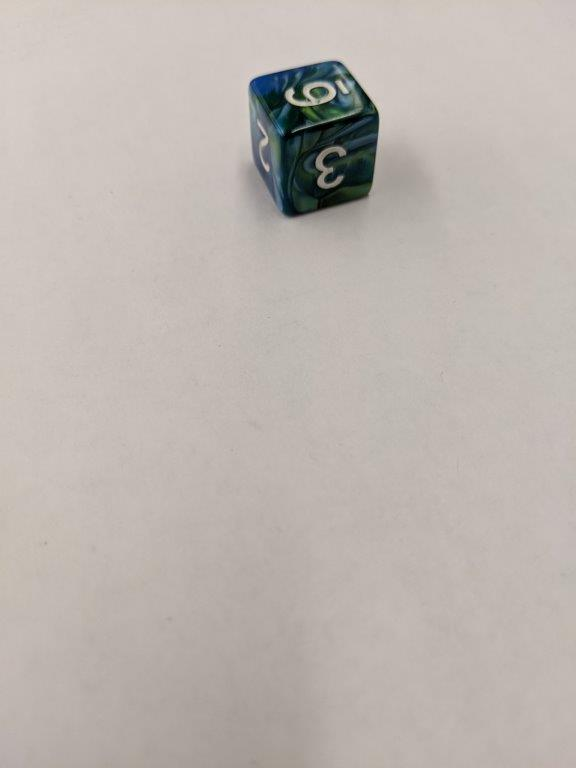d6-6: (247, 61, 377, 221)
